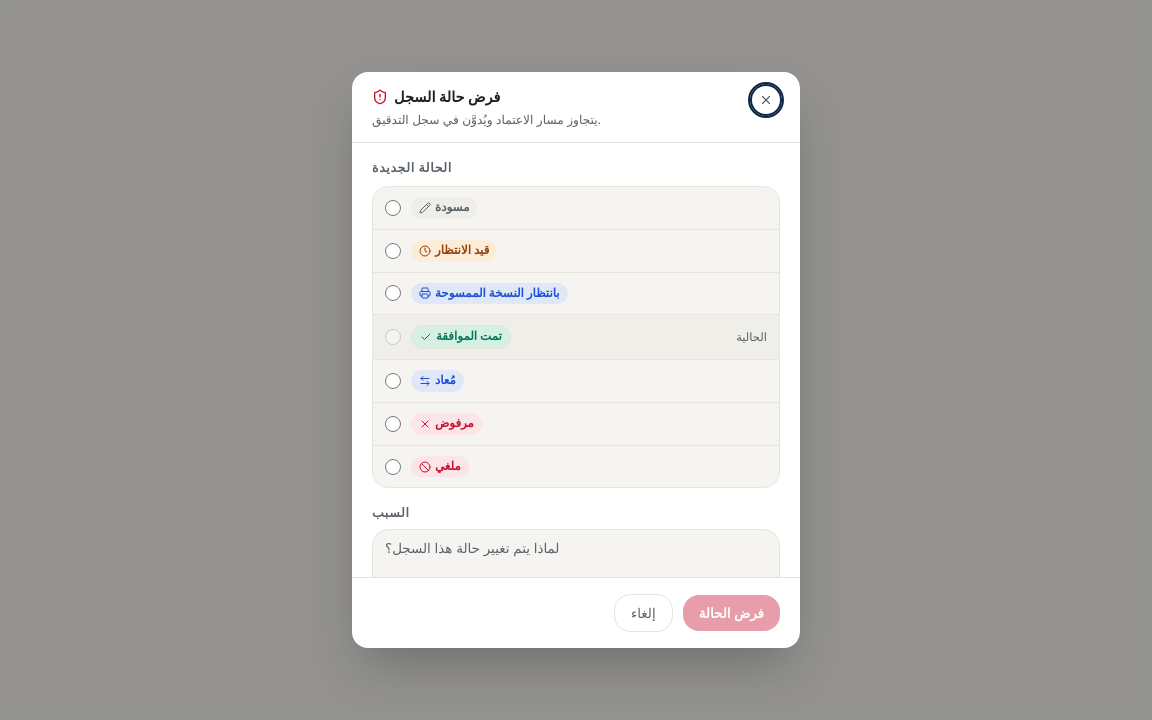
Test: RecordStateOverrideDialog › warns that a signed copy survives but stops being served
The width and height of the screenshot is (1152, 720).
What coordinates should you click on to do the following:
click the radio button labelled "مسودة"
I would click on:
 (393, 208)
Its box is x1=385 y1=200 x2=401 y2=216.
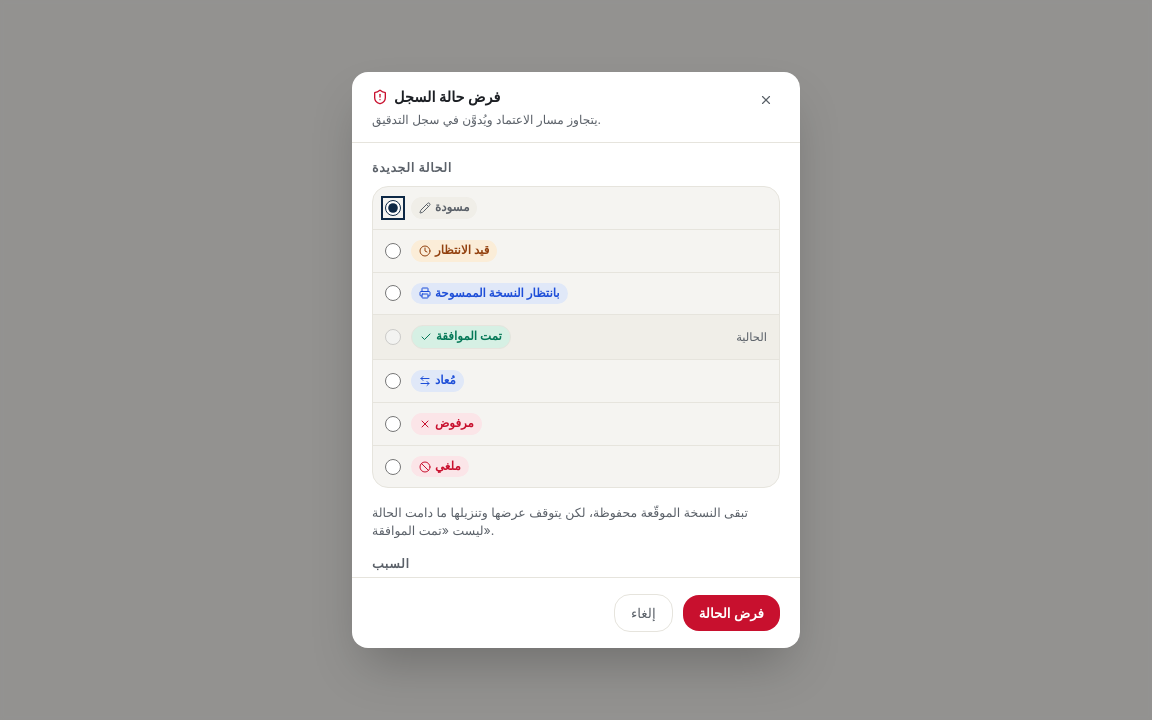
Result: the text "تبقى النسخة الموقّعة محفوظة" is shown at x1=372 y1=505 x2=748 y2=538
